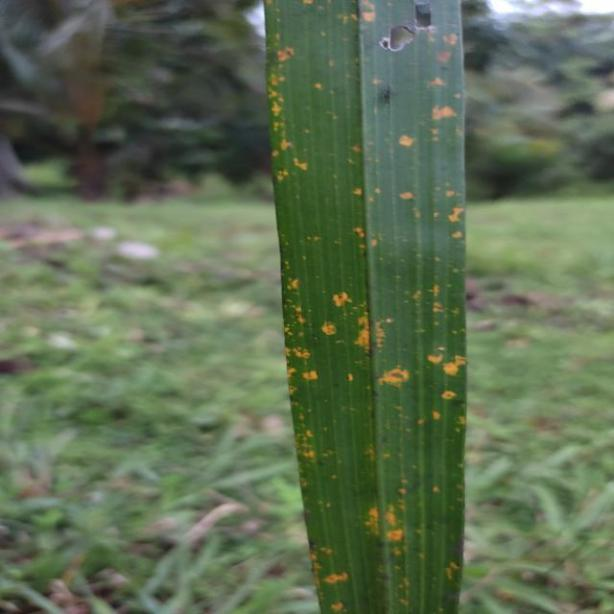Kalium: (264, 0, 470, 614)
